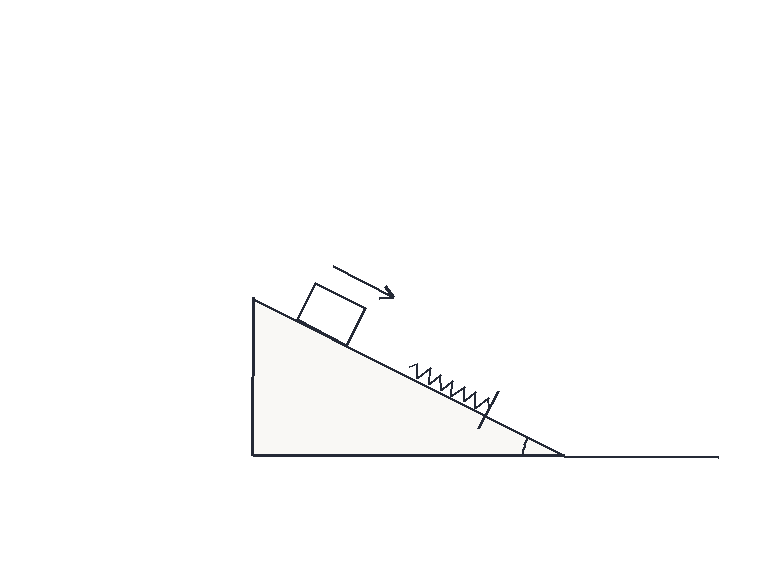block: (295, 281, 367, 347)
ramp: (251, 295, 565, 457)
spring: (407, 361, 492, 410)
